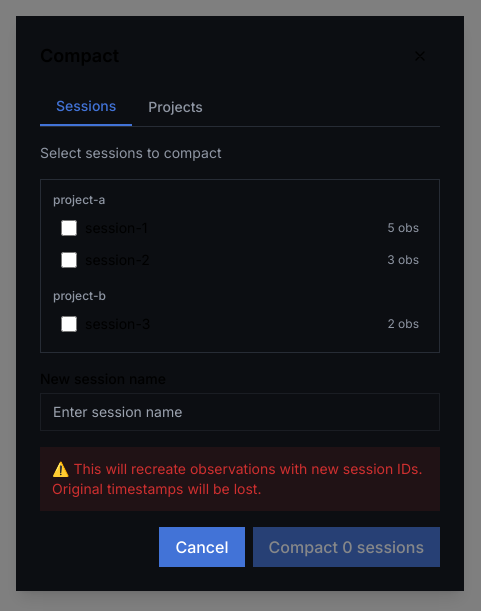
Test: CompactModal › tab rendering › should render Projects tab when clicked
Step 1. Click the button "Projects" → [176, 106], box [132,88,219,126]
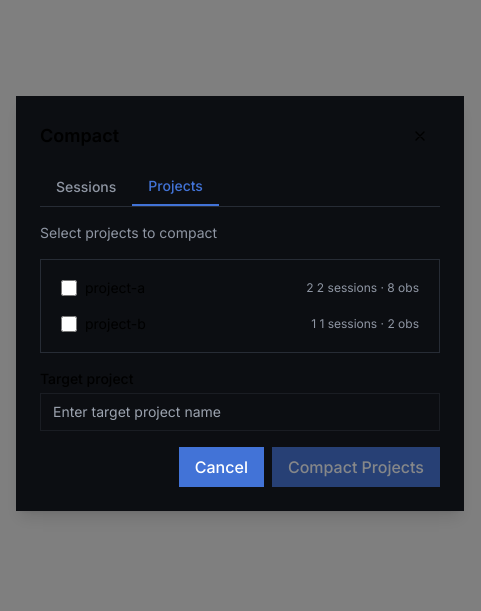
Check: the text "Select projects to compact" is shown, box [40,224,217,240]
